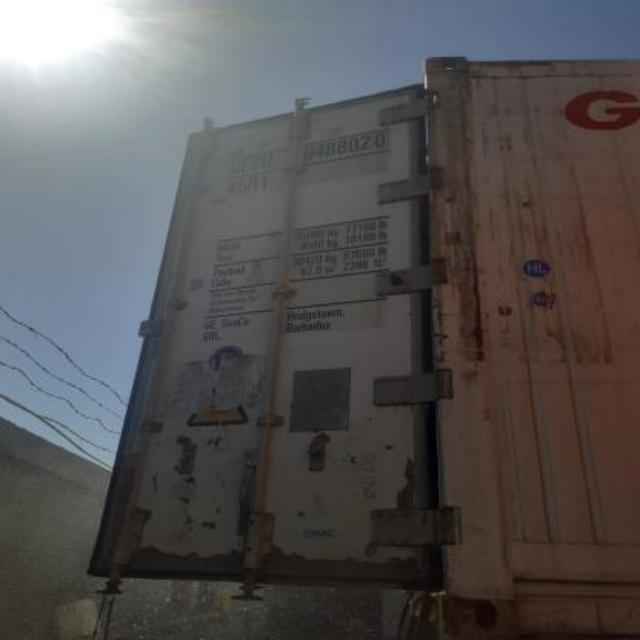0: (374, 130, 388, 152), (346, 130, 358, 154)
2: (356, 130, 372, 154)
4: (314, 142, 324, 160)
8: (324, 139, 336, 159), (337, 137, 347, 157)
9: (300, 142, 314, 162)
E: (241, 155, 251, 173)
G: (226, 156, 242, 178)
S: (252, 154, 262, 172)
U: (262, 153, 272, 171)
